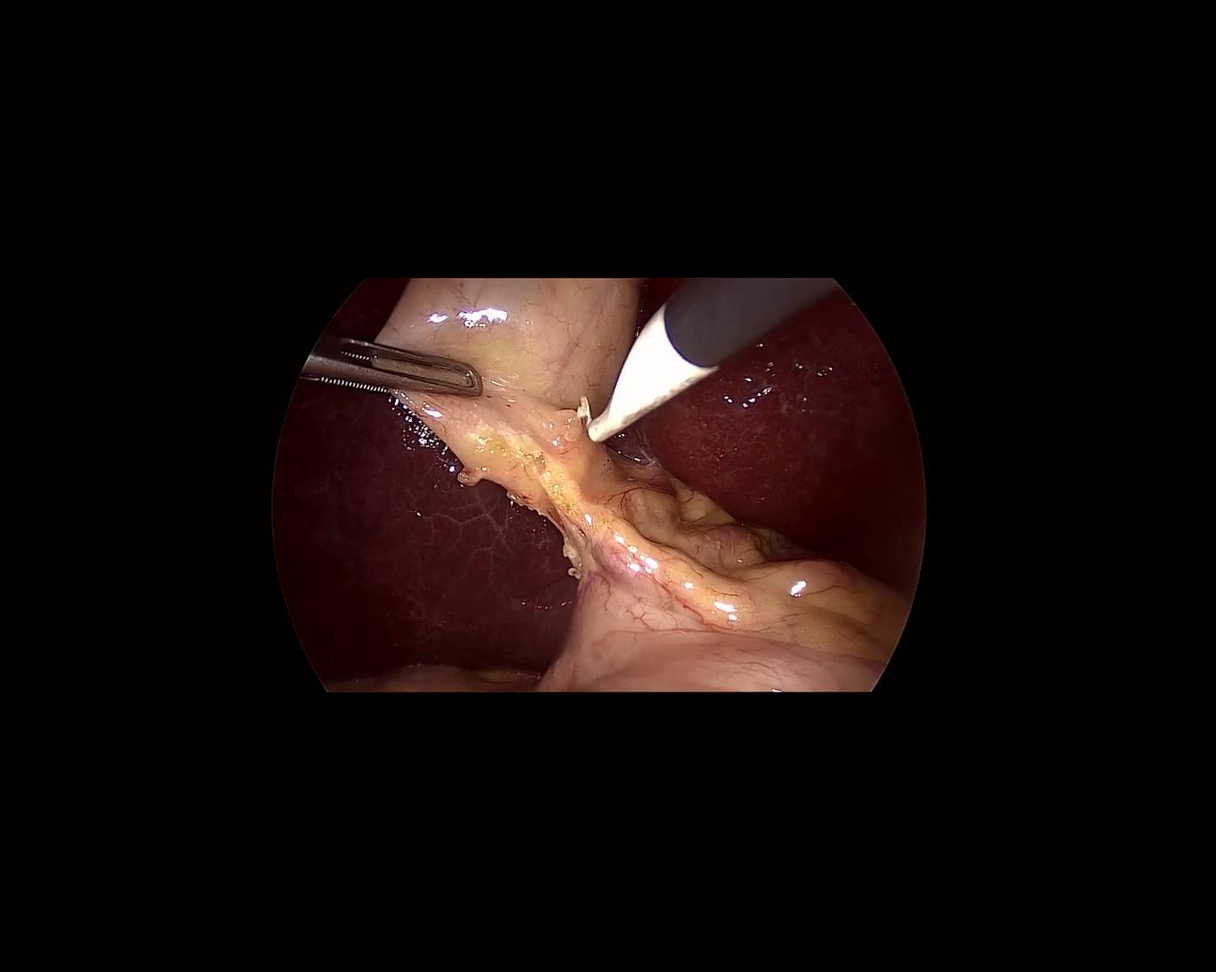Cautery: (548, 218, 838, 444)
Forceps: (301, 329, 487, 414)
Gallbladder: (342, 214, 649, 520)
Liver: (601, 287, 964, 631), (265, 369, 585, 679)
